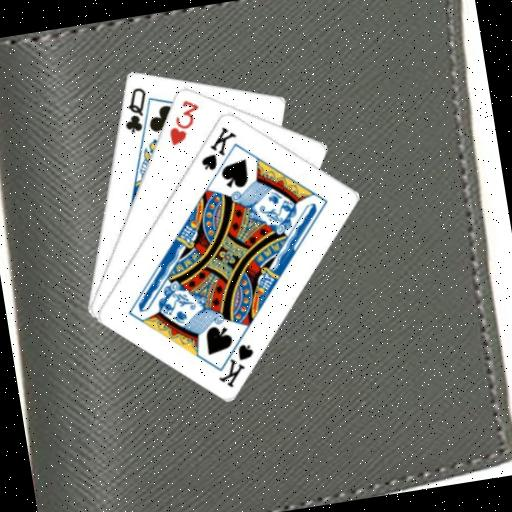3H: (160, 94, 206, 148)
KS: (208, 329, 260, 390), (192, 121, 243, 173)
QC: (116, 83, 153, 136)
